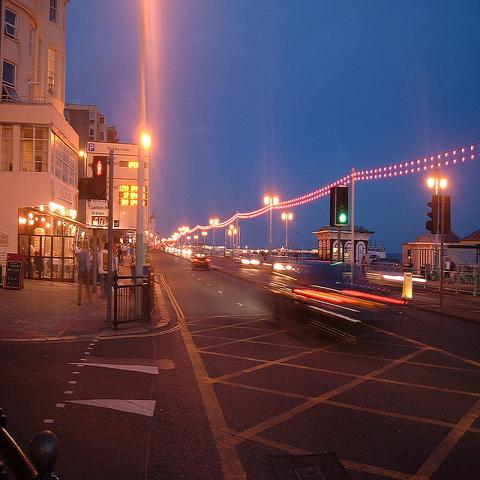car: (189, 250, 210, 271), (241, 258, 250, 266)
